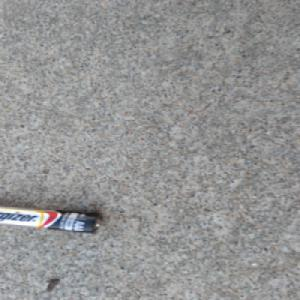Battery: (0, 205, 103, 234)
